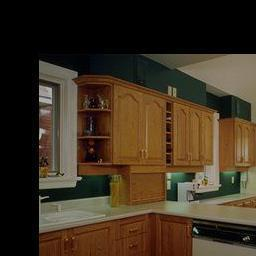Electrodomestico: (193, 220, 256, 256)
Lavaplatos: (42, 192, 107, 234)
